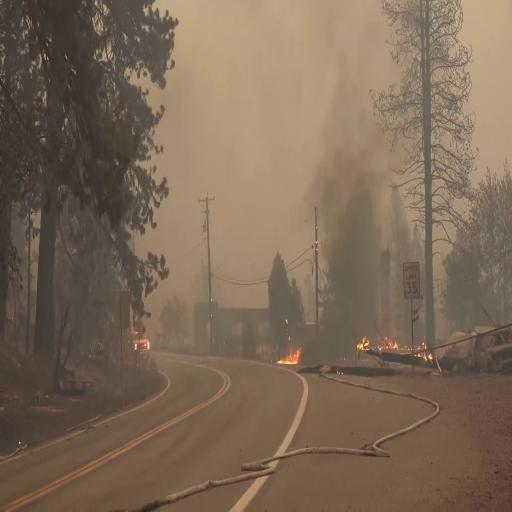smoke: (300, 28, 394, 234), (306, 71, 392, 248)
